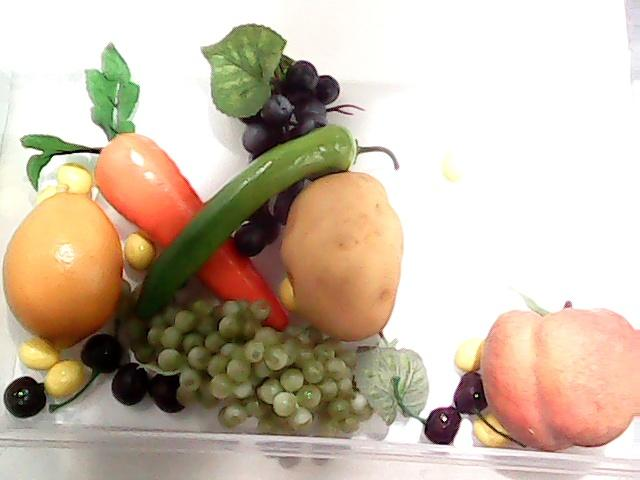carrot: (21, 43, 287, 334)
grape: (142, 298, 426, 446), (198, 21, 344, 254)
lemon: (5, 184, 125, 348)
peach: (483, 300, 640, 455)
pepper: (127, 119, 365, 325)
potato: (278, 170, 406, 342)
